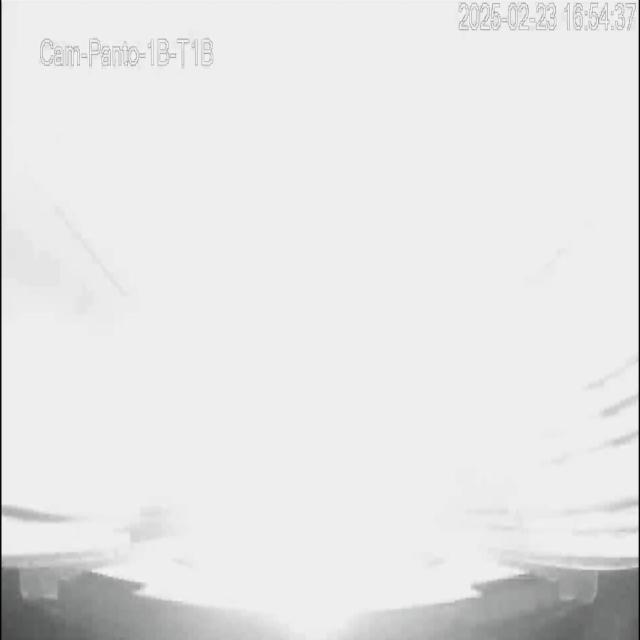Camera Stamp: (31, 25, 218, 84)
Date Stamp: (447, 1, 632, 46)
Sparks: (2, 2, 634, 637)
